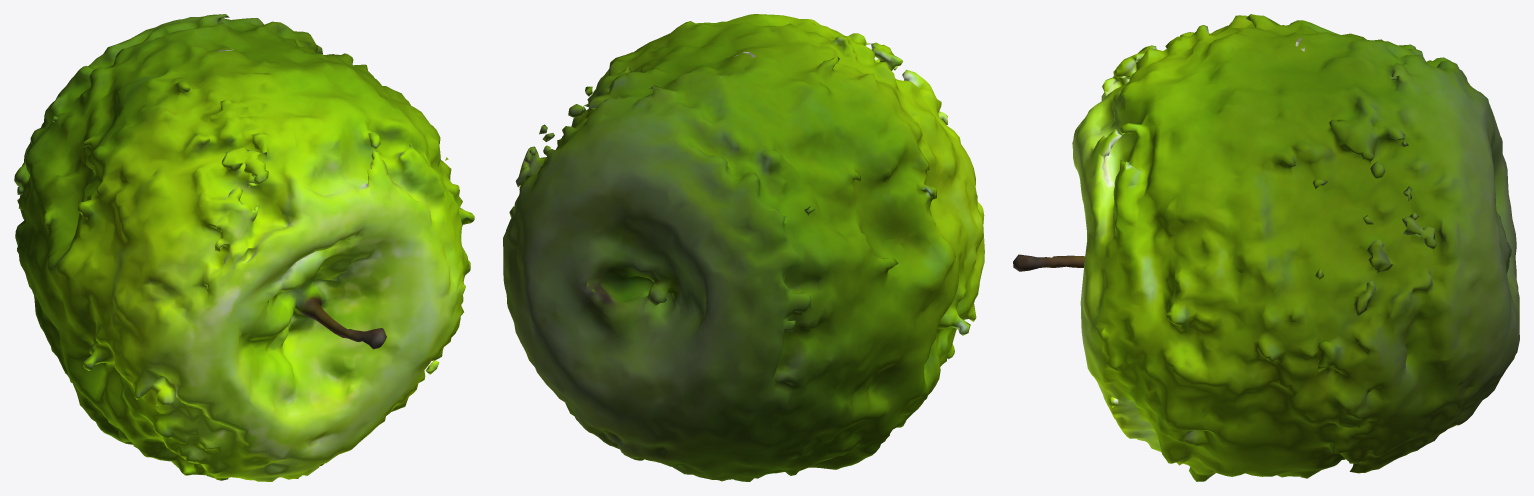
File: green_apple.obj
The picture shows the model from 3 angles, left to right: view 1: azimuth 30°, elevation 25°; view 2: azimuth 150°, elevation 25°; view 3: azimuth 270°, elevation 25°; orthographic projection. The views are drawn at different scales.
Visible parts, largest first — view 1: mesh; view 2: mesh; view 3: mesh.
Part boxes in pixels (x1,y1,x2,y2): mesh: (14,14,474,481); mesh: (503,14,984,481); mesh: (1013,14,1519,481).
Size of the model in its own units: 0.0776 by 0.0782 by 0.0846.
Materials: 1 (1 with a texture image).
